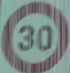Speed limit: (6, 2, 61, 68)
